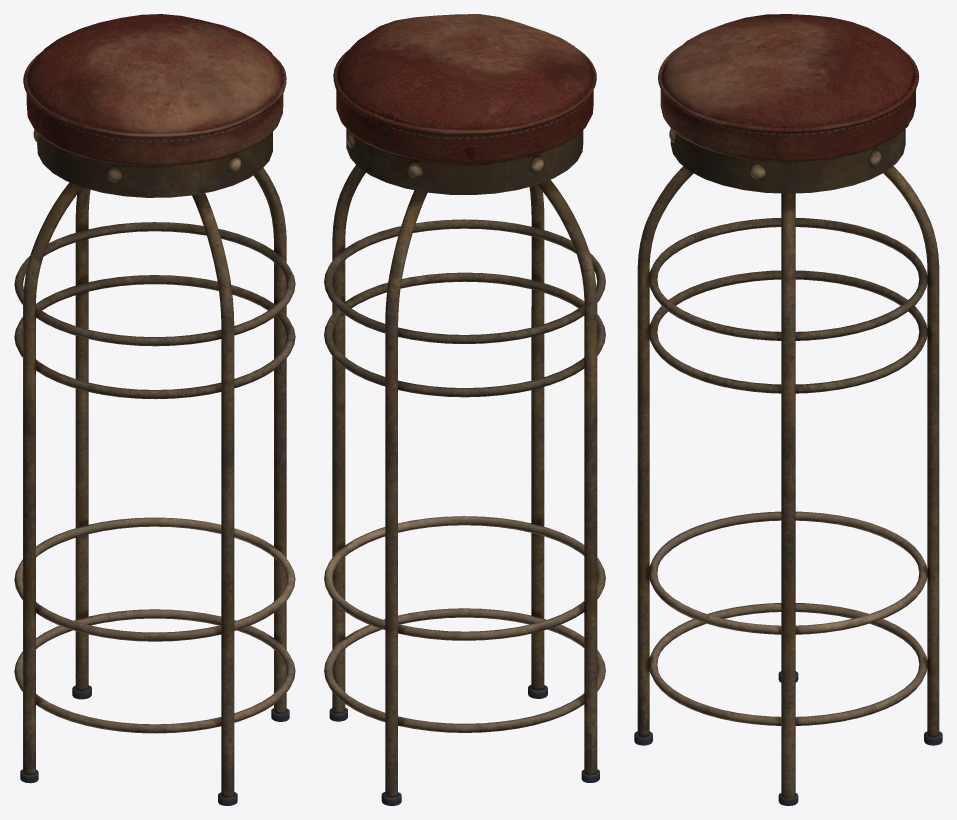
The model's file is metal_stool_01.gltf.
The picture shows the model from 3 angles, left to right: view 1: azimuth 30°, elevation 25°; view 2: azimuth 150°, elevation 25°; view 3: azimuth 270°, elevation 25°; orthographic projection.
Parts seen in each view (by area): view 1: metal_stool_01; view 2: metal_stool_01; view 3: metal_stool_01.
Boxes of the visible parts, left/top/right/bottom form: metal_stool_01: left=14, top=14, right=295, bottom=805; metal_stool_01: left=324, top=14, right=605, bottom=805; metal_stool_01: left=634, top=14, right=942, bottom=805.
Size of the model in its own units: 0.352 by 0.8828 by 0.3546.
Materials: 1 (1 with a texture image).
